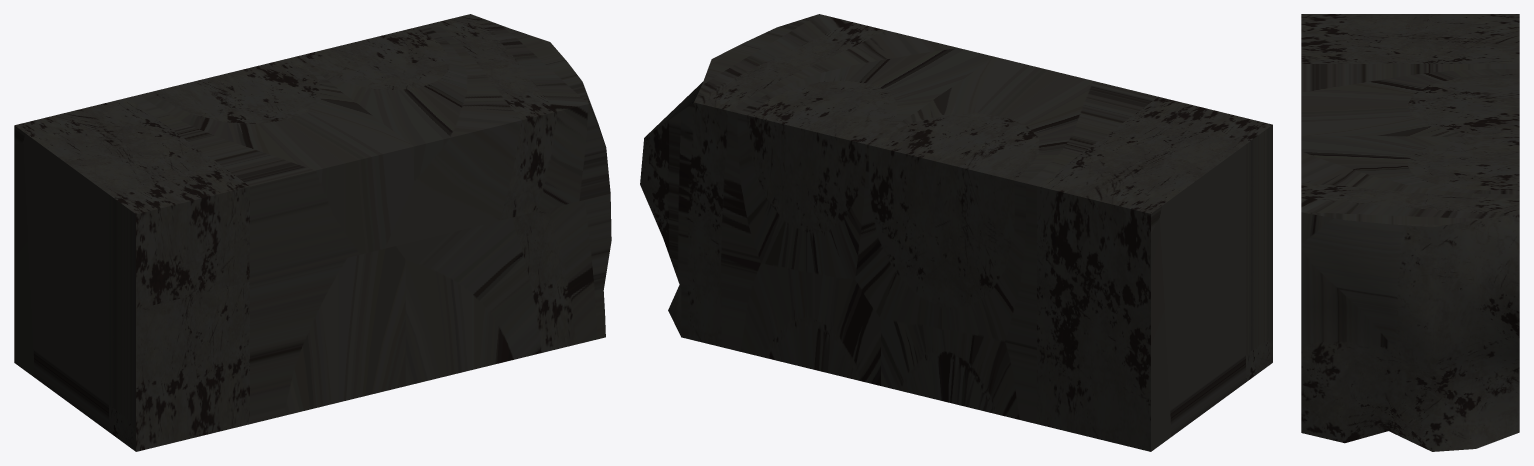
File: Pillar06.FBX
3 renders of one model, left to right at view 1: azimuth 30°, elevation 25°; view 2: azimuth 150°, elevation 25°; view 3: azimuth 270°, elevation 25°, orthographic. The views are drawn at different scales.
Visible parts, largest first — view 1: Box021; view 2: Box021; view 3: Box021.
Boxes of the visible parts, x1,y1,x2,y2 form: Box021: (14,14,611,451); Box021: (640,14,1272,451); Box021: (1301,14,1519,451).
Bounding box in the file's own units: 31647 × 14000 × 13000.
